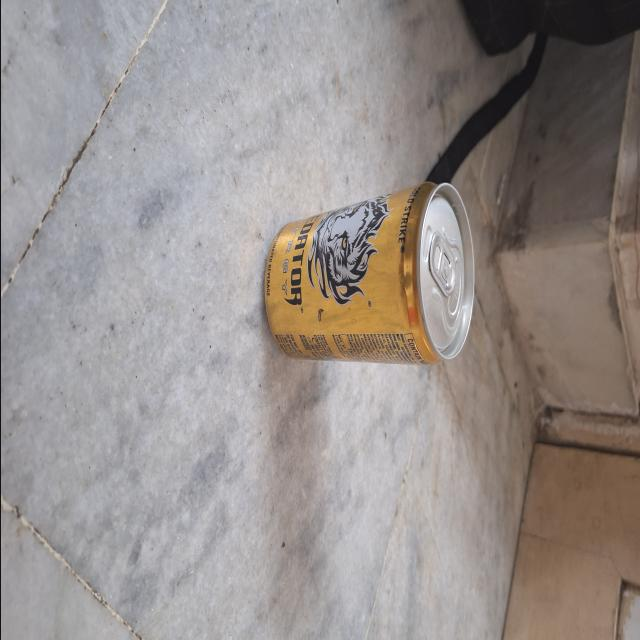Predator: (254, 187, 474, 369)
